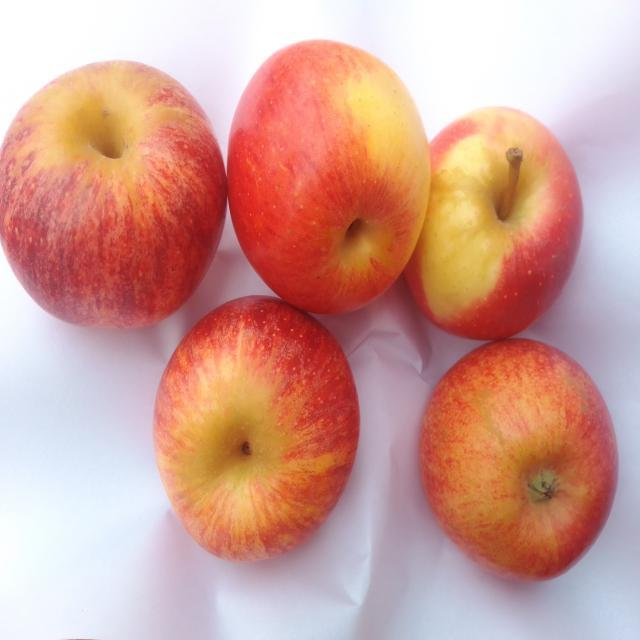Fresh Apple: (2, 54, 228, 328), (230, 40, 435, 320), (158, 290, 367, 562), (422, 338, 622, 587), (422, 103, 580, 345)
